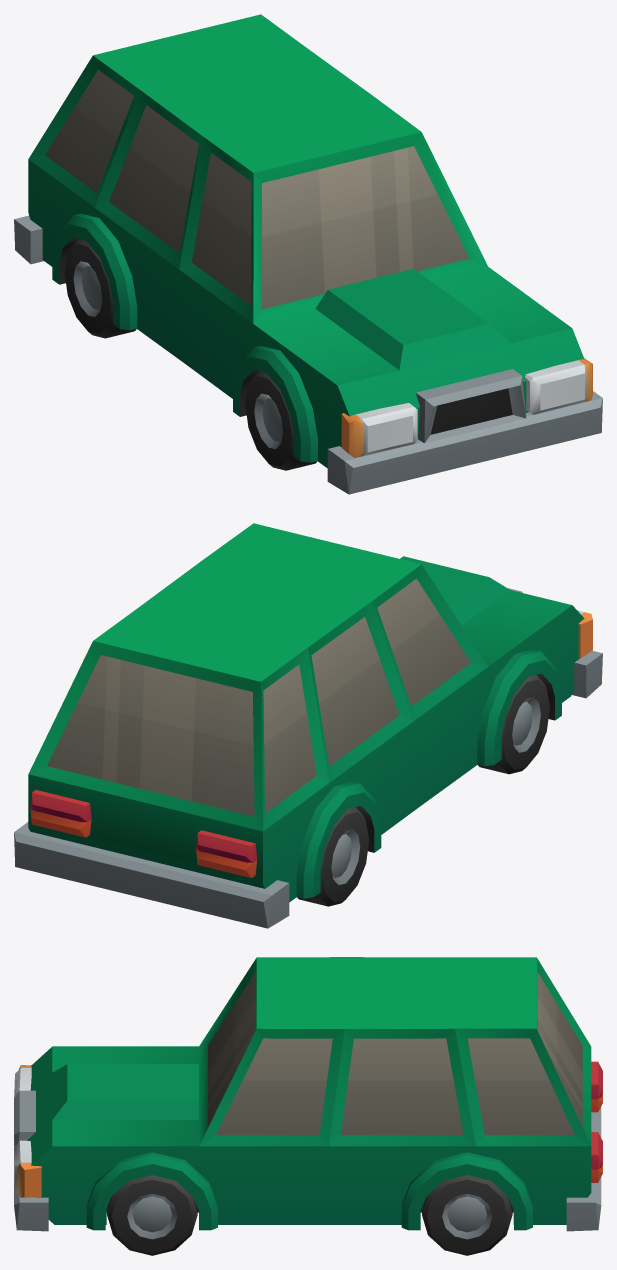
The model's file is car2.glb.
The picture shows the model from 3 angles, top to bottom: view 1: azimuth 30°, elevation 25°; view 2: azimuth 150°, elevation 25°; view 3: azimuth 270°, elevation 25°; orthographic projection. The views are drawn at different scales.
Parts seen in each view (by area): view 1: car_stationwagon, car_stationwagon_wheel_front_right, car_stationwagon_wheel_rear_right; view 2: car_stationwagon, car_stationwagon_wheel_rear_right, car_stationwagon_wheel_front_right; view 3: car_stationwagon, car_stationwagon_wheel_rear_left, car_stationwagon_wheel_front_left.
Part boxes in pixels (bbox=[...]): car_stationwagon: bbox=[14, 14, 602, 494]; car_stationwagon_wheel_front_right: bbox=[245, 371, 317, 470]; car_stationwagon_wheel_rear_right: bbox=[64, 239, 136, 338]; car_stationwagon: bbox=[14, 523, 602, 928]; car_stationwagon_wheel_rear_right: bbox=[297, 807, 369, 906]; car_stationwagon_wheel_front_right: bbox=[478, 675, 549, 774]; car_stationwagon: bbox=[14, 957, 602, 1231]; car_stationwagon_wheel_rear_left: bbox=[422, 1175, 512, 1255]; car_stationwagon_wheel_front_left: bbox=[107, 1175, 197, 1255].
Bounding box in the file's own units: 0.419 × 0.3688 × 0.9381.
1 material, 1 textured.
